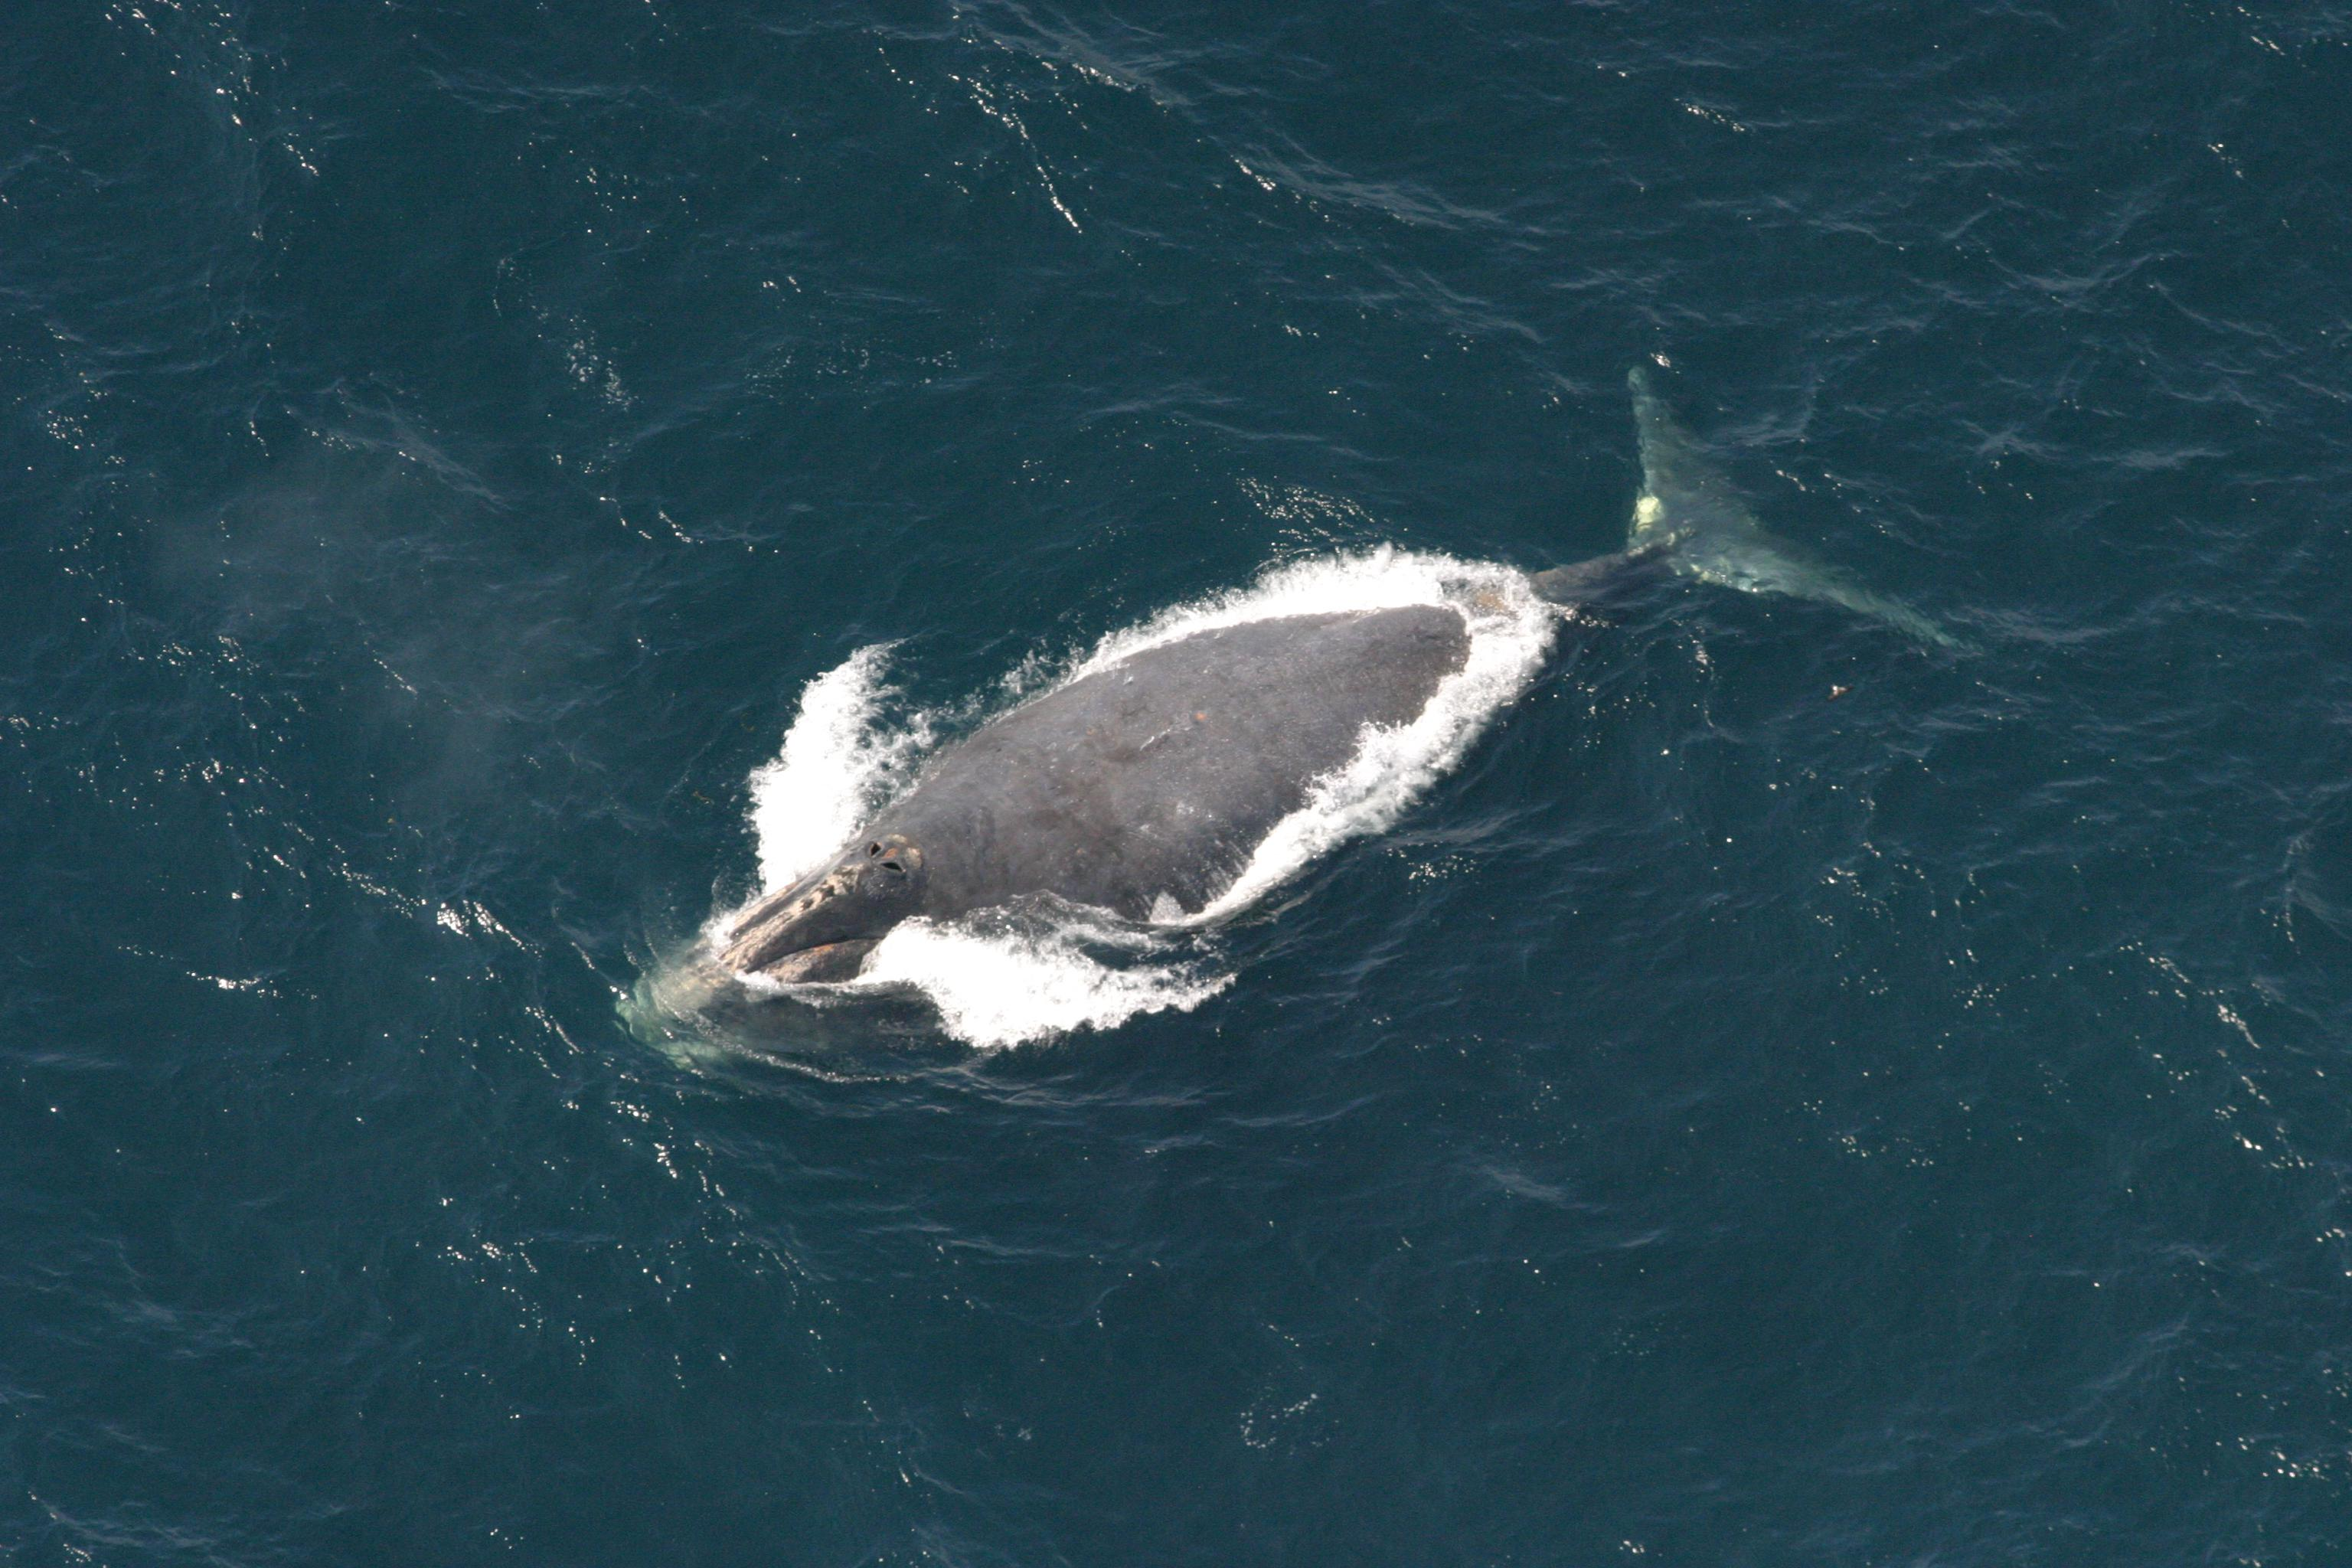whale: (609, 359, 1951, 1055)
